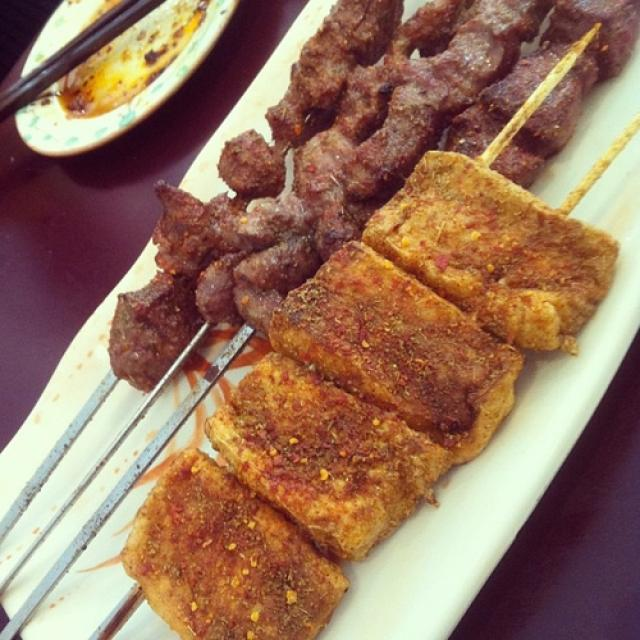烧串烤肉: (27, 13, 621, 628)
